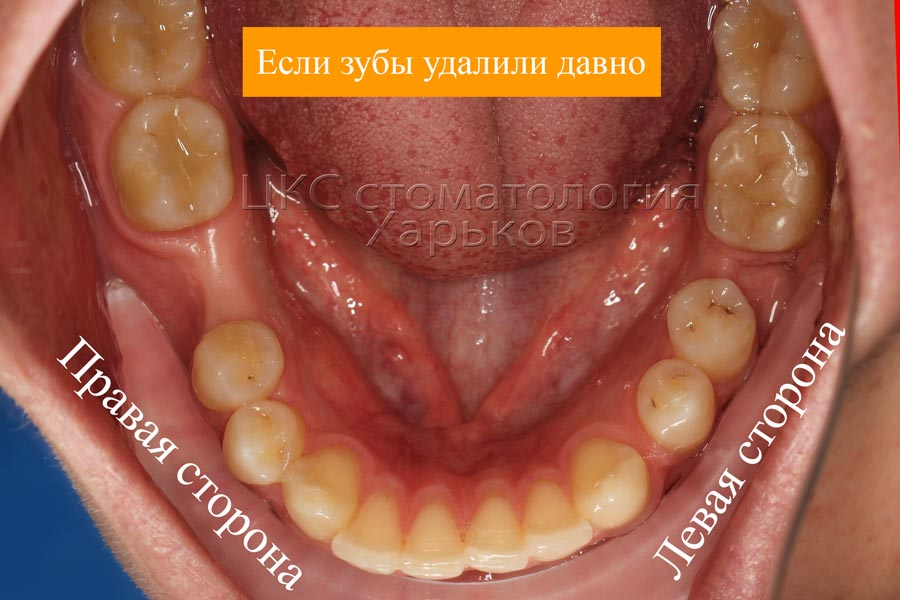LL1BC_decay: (635, 354, 715, 450)
LL1M_healthy: (705, 115, 821, 252)
LL2BC_decay: (665, 277, 759, 378)
LL2M_healthy: (715, 2, 814, 110)
LLCI_healthy: (463, 492, 524, 578)
LLC_healthy: (568, 432, 646, 531)
LLLI_healthy: (516, 480, 591, 557)
LR1BC_healthy: (218, 396, 305, 486)
LR1M_healthy: (109, 97, 234, 238)
LR2BC_decay: (189, 319, 285, 411)
LR2M_healthy: (75, 1, 207, 97)
LRCI_healthy: (399, 501, 465, 578)
LRC_healthy: (282, 438, 369, 540)
LRLI_healthy: (331, 488, 408, 574)
